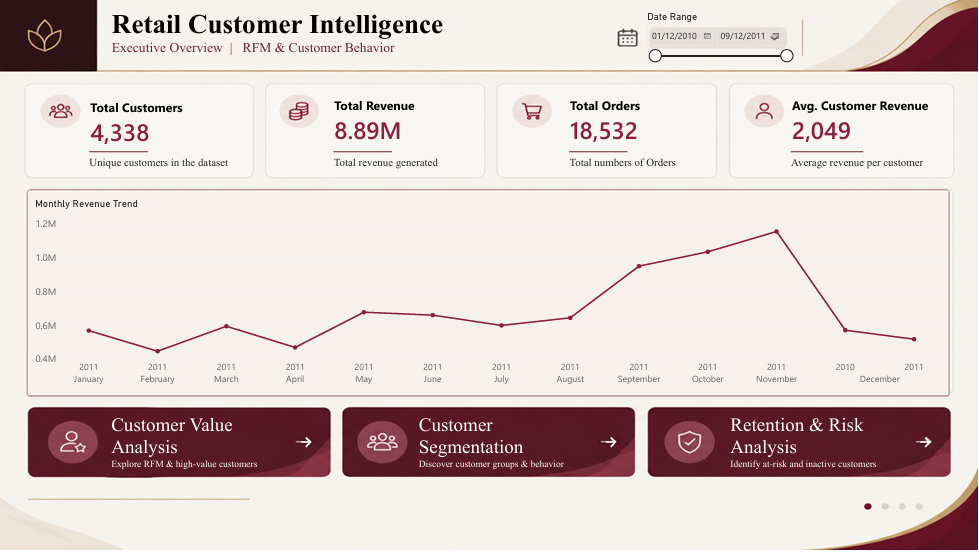

What the dashboard file says about the page in this screenshot:
{"tool":"powerbi","page":{"name":"Executive Overview","canvas":[1920,1080],"ordinal":0},"visuals":[{"type":"textbox","box":[218.9,14.6,913.2,112.6],"z":0},{"type":"cardVisual","fields":{"Data":["KPI Cards.Total Customers"]},"box":[160.5,177.2,312.7,129.3],"z":1000},{"type":"cardVisual","fields":{"Data":["KPI Cards.Total Orders"]},"box":[1102.9,168.9,287.7,137.6],"z":2000},{"type":"cardVisual","fields":{"Data":["KPI Cards.Average Customer Revenue"]},"box":[1538.7,168.9,310.7,137.6],"z":3000},{"type":"cardVisual","fields":{"Data":["KPI Cards.Total Revenue"]},"box":[640.1,168.9,287.7,137.6],"z":4000},{"type":"lineChart","title":"Monthly Revenue Trend","fields":{"Category":["transactions_clean.InvoiceDate.Variation.Date Hierarchy.Month","transactions_clean.InvoiceDate.Variation.Date Hierarchy.Year"],"Y":["Sum(transactions_clean.Revenue)"]},"box":[52.1,373.2,1813.9,408.6],"z":5000},{"type":"shape","box":[175.1,223.1,114.7,150.1],"z":6000},{"type":"shape","box":[654.7,223.1,114.7,150.1],"z":7000},{"type":"shape","box":[1117.5,223.1,114.7,150.1],"z":8000},{"type":"shape","box":[1553.3,223.1,141.8,150.1],"z":9000},{"type":"textbox","box":[175.1,306.5,312.7,27.1],"z":10000},{"type":"textbox","box":[654.7,306.5,312.7,27.1],"z":11000},{"type":"textbox","box":[1117.5,306.5,289.8,27.1],"z":12000},{"type":"textbox","box":[1553.3,306.5,296.1,27.1],"z":13000},{"type":"slicer","fields":{"Values":["transactions_clean.InvoiceDate"]},"box":[1262.9,21.4,298.6,147.1],"z":14000},{"type":"actionButton","box":[560,846,80,46],"z":15000},{"type":"textbox","box":[218,812,288,116],"z":16000},{"type":"textbox","box":[822,812,288,98],"z":17000},{"type":"textbox","box":[1434,812,288,116],"z":18000},{"type":"textbox","box":[218,900,422,28],"z":19000},{"type":"textbox","box":[822,900,422,28],"z":20000},{"type":"textbox","box":[1434,900,422,28],"z":21000},{"type":"actionButton","box":[1154,846,90,46],"z":22000},{"type":"actionButton","box":[1776,846,80,46],"z":23000}]}

Visuals, with their boxes in screenshot pixels (x1, y1, x2, y2), scaled from the page's 1920x1080 canvas onto the 979x552 screenshot:
textbox: BBox(112, 7, 577, 65)
cardVisual - KPI Cards.Total Customers: BBox(82, 91, 241, 157)
cardVisual - KPI Cards.Total Orders: BBox(562, 86, 709, 157)
cardVisual - KPI Cards.Average Customer Revenue: BBox(785, 86, 943, 157)
cardVisual - KPI Cards.Total Revenue: BBox(326, 86, 473, 157)
"Monthly Revenue Trend" lineChart: BBox(27, 191, 951, 400)
shape: BBox(89, 114, 148, 191)
shape: BBox(334, 114, 392, 191)
shape: BBox(570, 114, 628, 191)
shape: BBox(792, 114, 864, 191)
textbox: BBox(89, 157, 249, 171)
textbox: BBox(334, 157, 493, 171)
textbox: BBox(570, 157, 718, 171)
textbox: BBox(792, 157, 943, 171)
slicer - transactions_clean.InvoiceDate: BBox(644, 11, 796, 86)
actionButton: BBox(286, 432, 326, 456)
textbox: BBox(111, 415, 258, 474)
textbox: BBox(419, 415, 566, 465)
textbox: BBox(731, 415, 878, 474)
textbox: BBox(111, 460, 326, 474)
textbox: BBox(419, 460, 634, 474)
textbox: BBox(731, 460, 946, 474)
actionButton: BBox(588, 432, 634, 456)
actionButton: BBox(906, 432, 946, 456)
